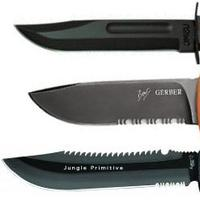knife: (9, 7, 200, 66), (16, 77, 200, 135), (3, 144, 200, 189)
